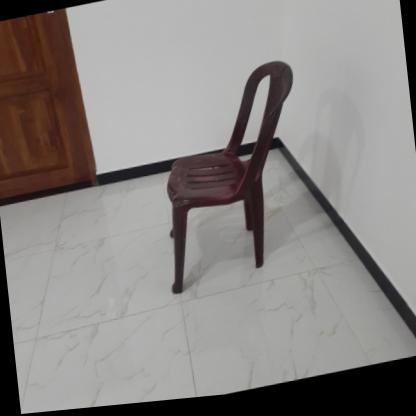Ceramic floor: (0, 155, 416, 414)
Chair: (148, 60, 311, 300)
